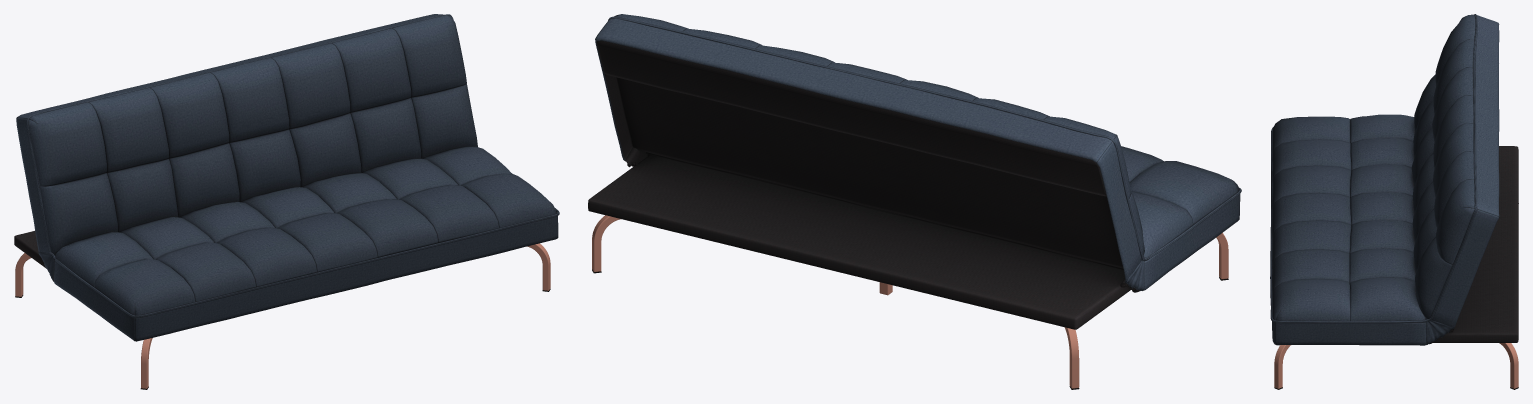
Rendered from Blue Sofa Bed.glb.
The picture shows the model from 3 angles, left to right: view 1: azimuth 30°, elevation 25°; view 2: azimuth 150°, elevation 25°; view 3: azimuth 270°, elevation 25°; orthographic projection. The views are drawn at different scales.
Parts seen in each view (by area): view 1: FABRIC001, STEEL001, FABRIC_BLACK001; view 2: FABRIC_BLACK001, FABRIC001, STEEL001; view 3: FABRIC001, FABRIC_BLACK001, STEEL001.
Part boxes in pixels (left/top/right/bottom): FABRIC001: left=16, top=14, right=559, bottom=341; STEEL001: left=15, top=243, right=550, bottom=388; FABRIC_BLACK001: left=14, top=231, right=54, bottom=280; FABRIC_BLACK001: left=588, top=40, right=1140, bottom=329; FABRIC001: left=595, top=14, right=1241, bottom=290; STEEL001: left=592, top=215, right=1228, bottom=388; FABRIC001: left=1270, top=14, right=1499, bottom=345; FABRIC_BLACK001: left=1429, top=146, right=1518, bottom=344; STEEL001: left=1274, top=343, right=1518, bottom=388.
Bounding box in the file's own units: 178 × 79.05 × 95.18.
4 materials, 3 textured.
